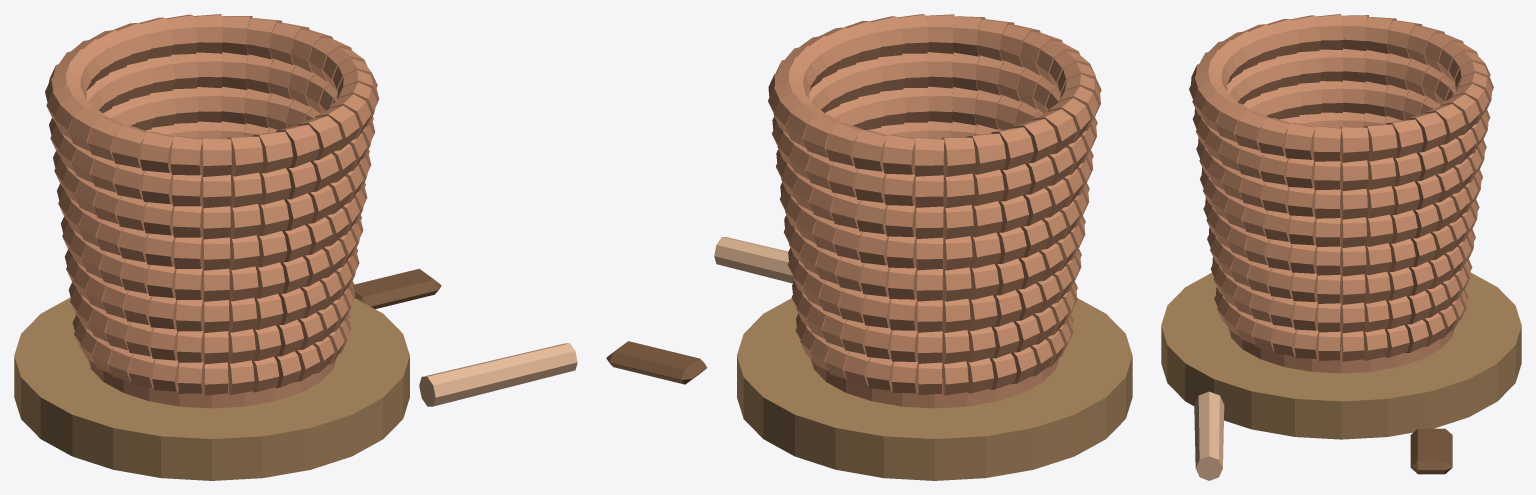
3 views of the same model, side by side, from view 1: azimuth 30°, elevation 25°; view 2: azimuth 150°, elevation 25°; view 3: azimuth 270°, elevation 25° (orthographic). The views are drawn at different scales.
Parts seen in each view (by area): view 1: RF-043 Open coiled clay vessel in progress batched; view 2: RF-043 Open coiled clay vessel in progress batched; view 3: RF-043 Open coiled clay vessel in progress batched.
Boxes of the visible parts, x1=… form: RF-043 Open coiled clay vessel in progress batched: x1=14, y1=14, x2=577, y2=480; RF-043 Open coiled clay vessel in progress batched: x1=606, y1=14, x2=1132, y2=480; RF-043 Open coiled clay vessel in progress batched: x1=1161, y1=14, x2=1521, y2=480.
Bounding box in the file's own units: 0.8 × 0.537 × 0.6.
